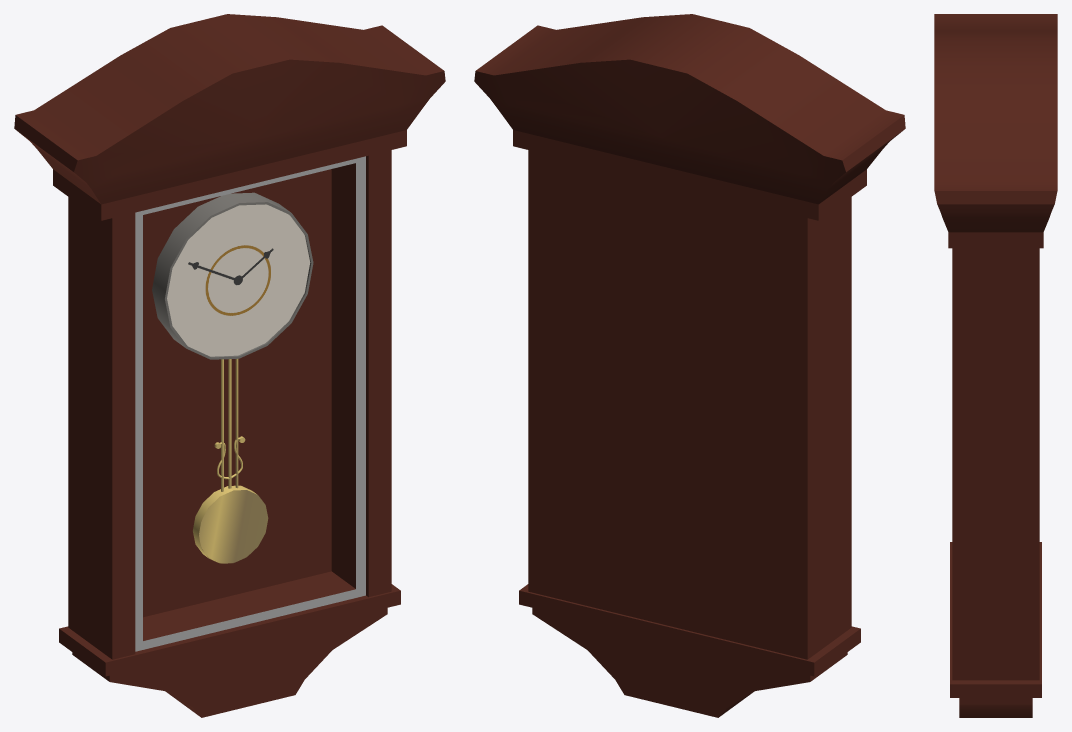
The model's file is classic clock (1).fbx.
3 views of the same model, side by side, from view 1: azimuth 30°, elevation 25°; view 2: azimuth 150°, elevation 25°; view 3: azimuth 270°, elevation 25° (orthographic).
Parts seen in each view (by area): view 1: classic clock; view 2: classic clock; view 3: classic clock.
Part boxes in pixels (x1=…): classic clock: x1=14, y1=14, x2=445, y2=717; classic clock: x1=474, y1=14, x2=905, y2=717; classic clock: x1=934, y1=14, x2=1057, y2=717.
Size of the model in its own units: 102 by 170 by 29.62.
Materials: 1 (1 with a texture image).
